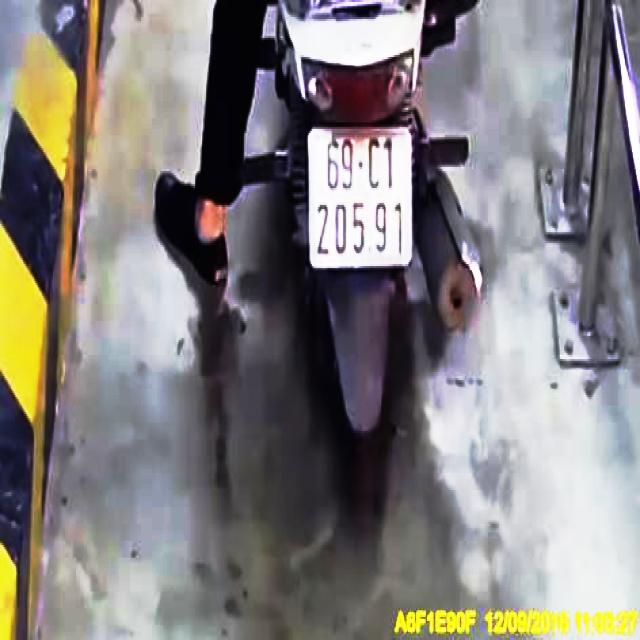license_plate: (309, 131, 411, 269)
